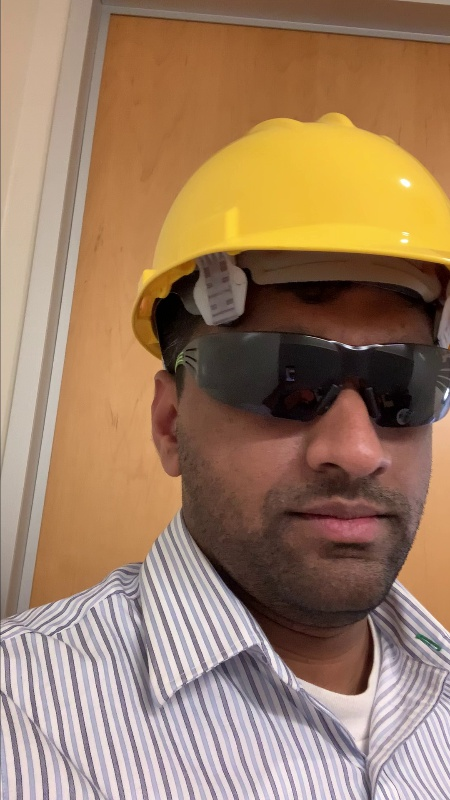glasses: (162, 322, 450, 434)
helmet: (130, 103, 450, 342)
